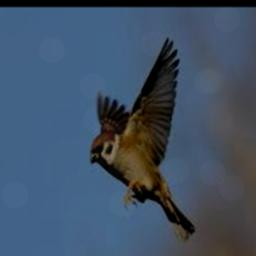Sparrow: (90, 37, 194, 243)
